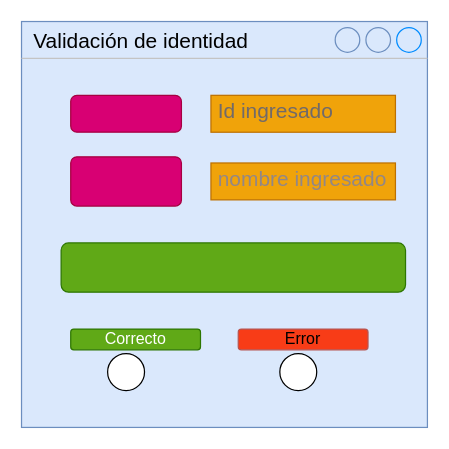
Some shapes in this 449 by 449 pixel diagram are drawn without their labels. The shapes that lost their labels are listed below. From the top down, each one's centre as x and y in pixels, then its label:
At (x=125, y=113): "ID".
At (x=125, y=181): "Nombre completo".
At (x=233, y=267): "Validar información".
